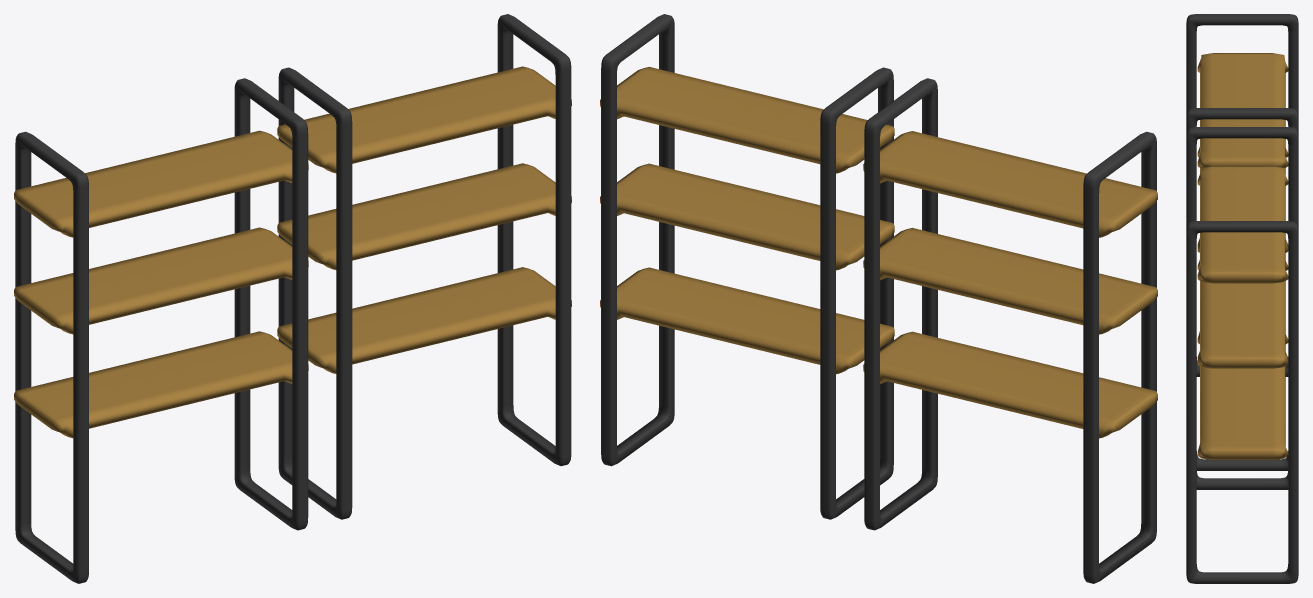
File: showcase.glb
3 views of the same model, side by side, from view 1: azimuth 30°, elevation 25°; view 2: azimuth 150°, elevation 25°; view 3: azimuth 270°, elevation 25° (orthographic). The views are drawn at different scales.
Visible parts, largest first — view 1: vitrin2_phong6_0.001, vitrin2_phong6_0.003, vitrin2_phong5_0, vitrin2_phong5_0.001; view 2: vitrin2_phong6_0.001, vitrin2_phong6_0.003, vitrin2_phong5_0, vitrin2_phong5_0.001; view 3: vitrin2_phong6_0.003, vitrin2_phong5_0.001, vitrin2_phong6_0.001, vitrin2_phong5_0.
Boxes of the visible parts, left/top/right/bottom form: vitrin2_phong6_0.001: left=14, top=130, right=308, bottom=438; vitrin2_phong6_0.003: left=277, top=66, right=571, bottom=373; vitrin2_phong5_0: left=15, top=78, right=308, bottom=583; vitrin2_phong5_0.001: left=278, top=14, right=571, bottom=519; vitrin2_phong6_0.001: left=863, top=131, right=1157, bottom=438; vitrin2_phong6_0.003: left=600, top=66, right=894, bottom=374; vitrin2_phong5_0: left=864, top=78, right=1156, bottom=583; vitrin2_phong5_0.001: left=601, top=14, right=893, bottom=519; vitrin2_phong6_0.003: left=1197, top=166, right=1288, bottom=459; vitrin2_phong5_0.001: left=1186, top=127, right=1298, bottom=583; vitrin2_phong6_0.001: left=1197, top=53, right=1288, bottom=343; vitrin2_phong5_0: left=1186, top=14, right=1298, bottom=470.
Size of the model in its own units: 4.36 by 3.3 by 0.9312.
